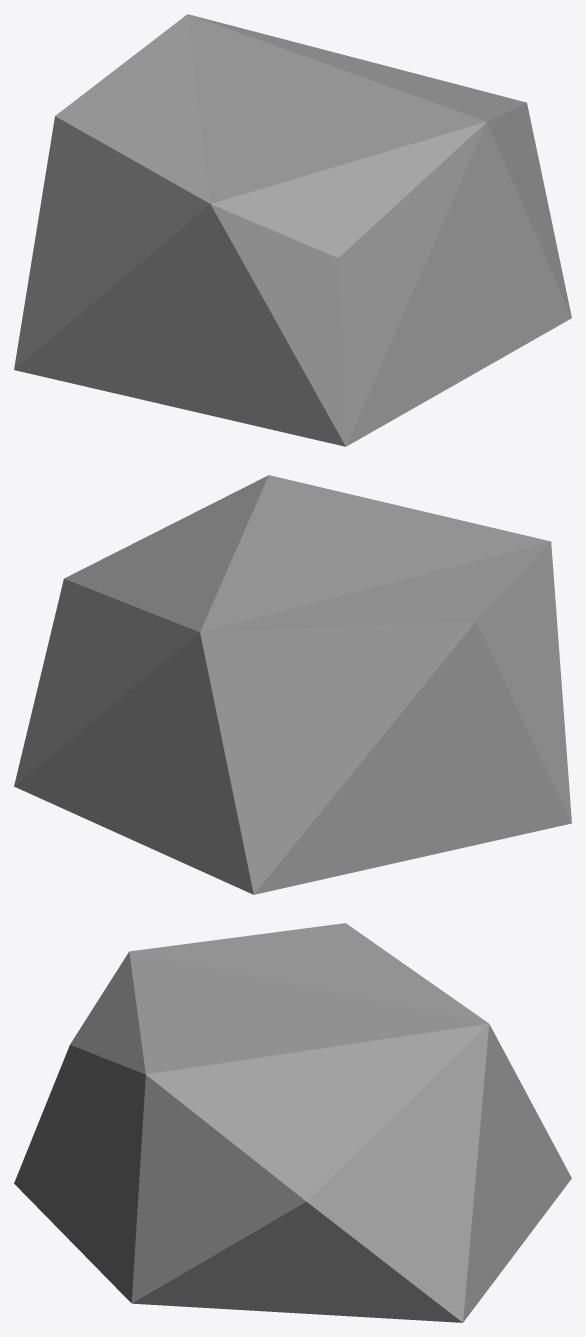
File: rock_03.glb
3 views of the same model, one above another, from view 1: azimuth 30°, elevation 25°; view 2: azimuth 150°, elevation 25°; view 3: azimuth 270°, elevation 25° (orthographic). The views are drawn at different scales.
Parts seen in each view (by area): view 1: Rock_03; view 2: Rock_03; view 3: Rock_03.
Part boxes in pixels (x1,y1,x2,y2): Rock_03: (14, 14, 571, 446); Rock_03: (14, 475, 571, 894); Rock_03: (14, 923, 571, 1322).
Bounding box in the file's own units: 0.3087 × 0.1502 × 0.3092.
1 material, 1 textured.
